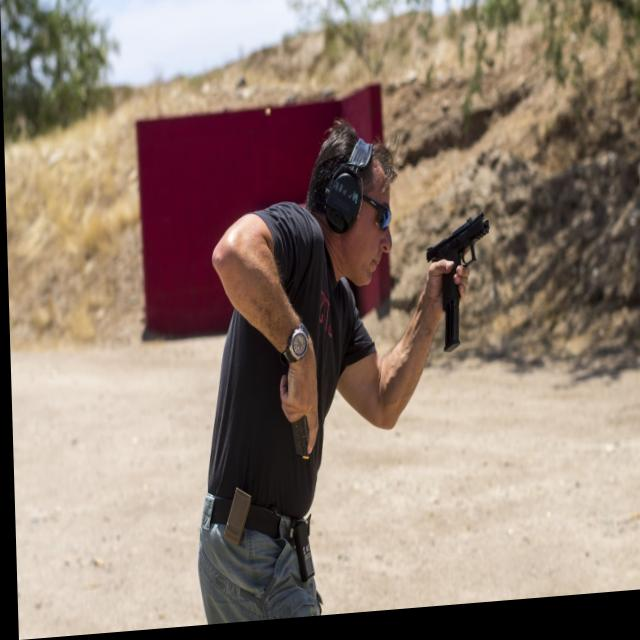handgun: (423, 216, 492, 320)
